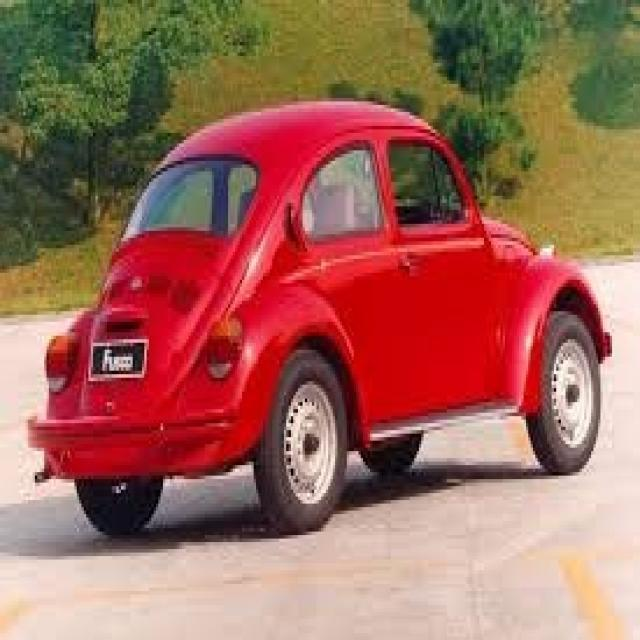cars: (36, 98, 608, 513)
